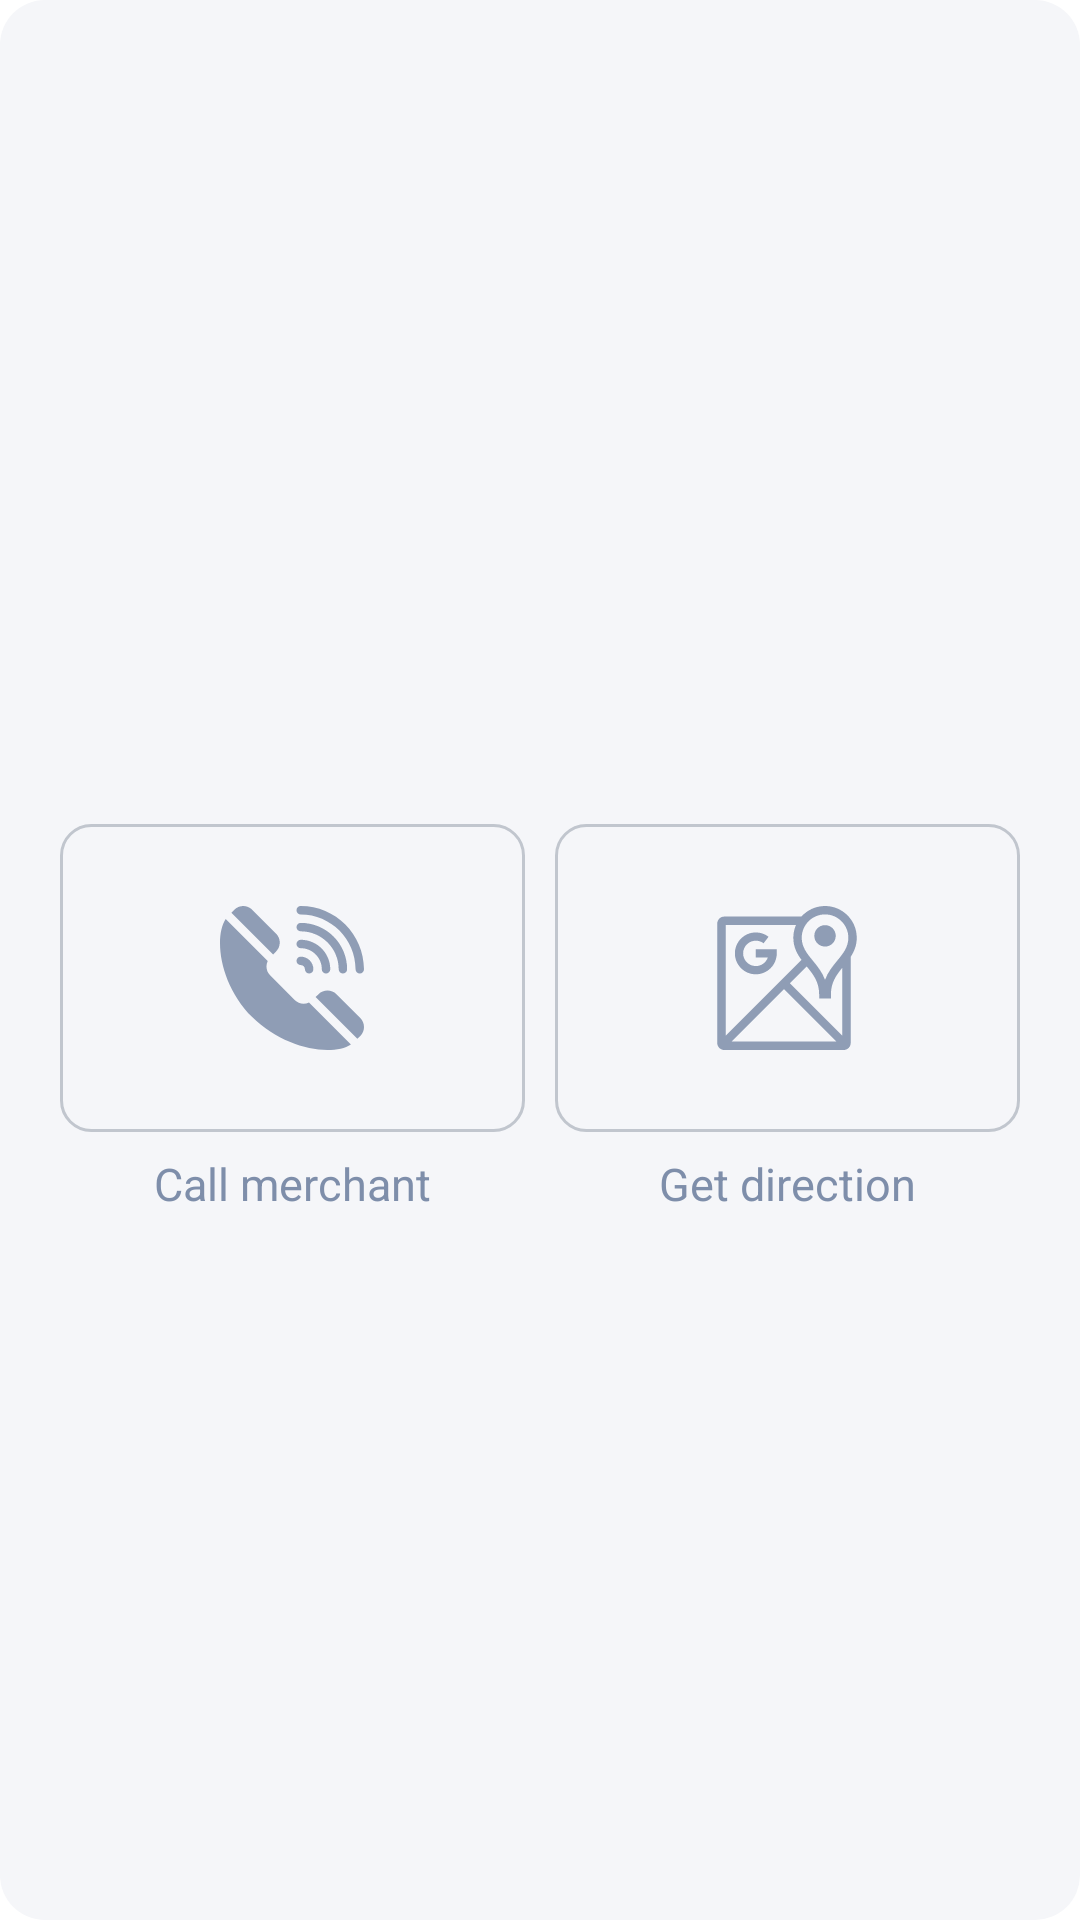

Screen size 1080w x 1920h. Icon name, then its box in pixels as (x1, y1, x2, y2):
phone call: (220, 906, 364, 1050)
